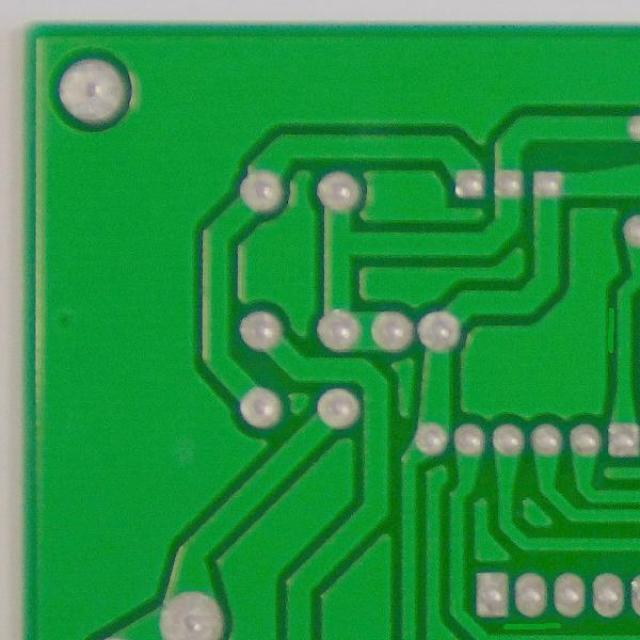Spurious_Cooper: (497, 616, 568, 634), (602, 302, 616, 356)
